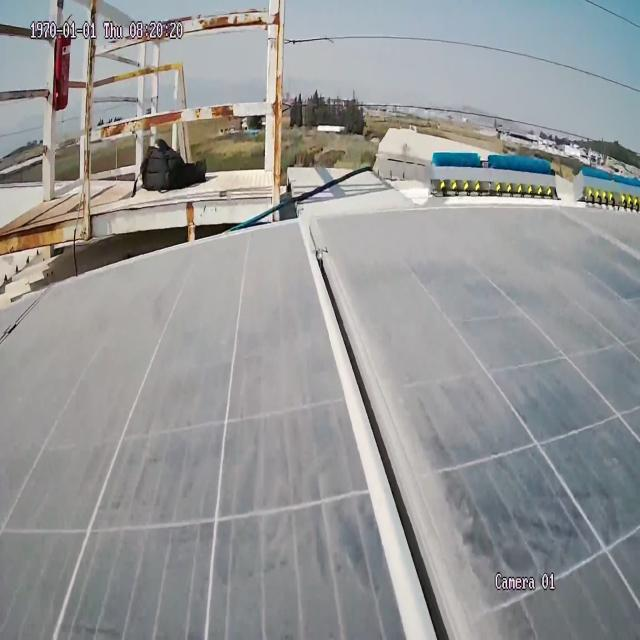interior panel: (283, 214, 537, 640)
